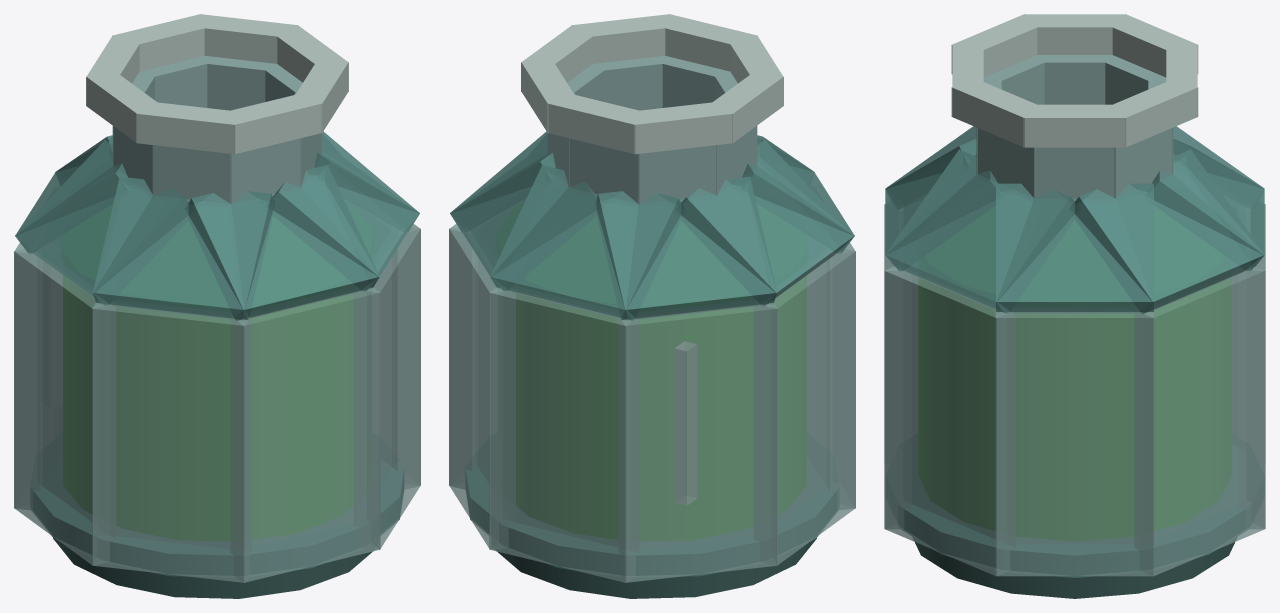
The model's file is CMU3DBottleDyloveneCloud.glb.
3 views of the same model, side by side, from view 1: azimuth 30°, elevation 25°; view 2: azimuth 150°, elevation 25°; view 3: azimuth 270°, elevation 25° (orthographic).
Visible parts, largest first — view 1: static liquid volume level 5, hollow bottle wall 06, hollow bottle wall 07, hollow bottle wall 05, inward glass shoulder 06, inward glass shoulder 07, hollow bottle wall 08, inward glass shoulder 05, bottom glass welt, inward glass shoulder 08, hollow bottle wall 01, hollow bottle wall 04 (+19 smaller); view 2: static liquid volume level 5, hollow bottle wall 04, hollow bottle wall 03, hollow bottle wall 05, inward glass shoulder 04, inward glass shoulder 03, hollow bottle wall 02, inward glass shoulder 05, bottom glass welt, inward glass shoulder 02, hollow bottle wall 06, hollow bottle wall 01 (+20 smaller); view 3: static liquid volume level 5, hollow bottle wall 01, hollow bottle wall 02, hollow bottle wall 08, inward glass shoulder 01, inward glass shoulder 02, inward glass shoulder 08, bottom glass welt, inward glass shoulder 03, inward glass shoulder 07, hollow bottle wall 03, hollow bottle wall 07 (+19 smaller).
Part boxes in pixels (x1,y1,x2,y2): static liquid volume level 5: (63, 276, 353, 540); hollow bottle wall 06: (92, 303, 251, 582); hollow bottle wall 07: (230, 287, 380, 582); hollow bottle wall 05: (14, 248, 115, 565); inward glass shoulder 06: (92, 176, 274, 320); inward glass shoulder 07: (185, 165, 379, 321); hollow bottle wall 08: (354, 228, 420, 549); inward glass shoulder 05: (15, 140, 194, 306); bottom glass welt: (31, 456, 403, 577); inward glass shoulder 08: (266, 131, 419, 292); hollow bottle wall 01: (374, 224, 420, 489); hollow bottle wall 04: (14, 243, 53, 510); static liquid volume level 5: (516, 276, 806, 540); hollow bottle wall 04: (618, 302, 777, 582); hollow bottle wall 03: (489, 287, 639, 582); hollow bottle wall 05: (754, 248, 855, 565); inward glass shoulder 04: (595, 176, 777, 320); inward glass shoulder 03: (490, 165, 684, 321); hollow bottle wall 02: (449, 228, 515, 549); inward glass shoulder 05: (675, 140, 854, 306); bottom glass welt: (466, 456, 838, 577); inward glass shoulder 02: (450, 131, 603, 292); hollow bottle wall 06: (816, 243, 855, 510); hollow bottle wall 01: (449, 224, 495, 489); static liquid volume level 5: (919, 278, 1230, 540); hollow bottle wall 01: (995, 310, 1154, 576); hollow bottle wall 02: (1134, 266, 1265, 576); hollow bottle wall 08: (884, 266, 1015, 576); inward glass shoulder 01: (996, 183, 1153, 312); inward glass shoulder 02: (1070, 149, 1264, 314); inward glass shoulder 08: (885, 149, 1079, 314); bottom glass welt: (898, 444, 1251, 577); inward glass shoulder 03: (1147, 126, 1264, 271); inward glass shoulder 07: (885, 126, 1002, 271); hollow bottle wall 03: (1238, 205, 1265, 529); hollow bottle wall 07: (884, 205, 911, 529).
Bounding box in the file's own units: 0.3387 × 0.453 × 0.3387.
